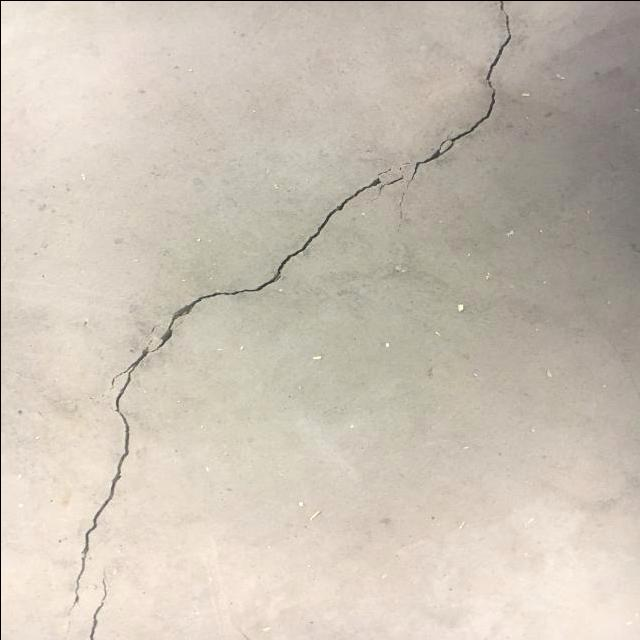SurfaceCrack: (60, 0, 557, 639)
